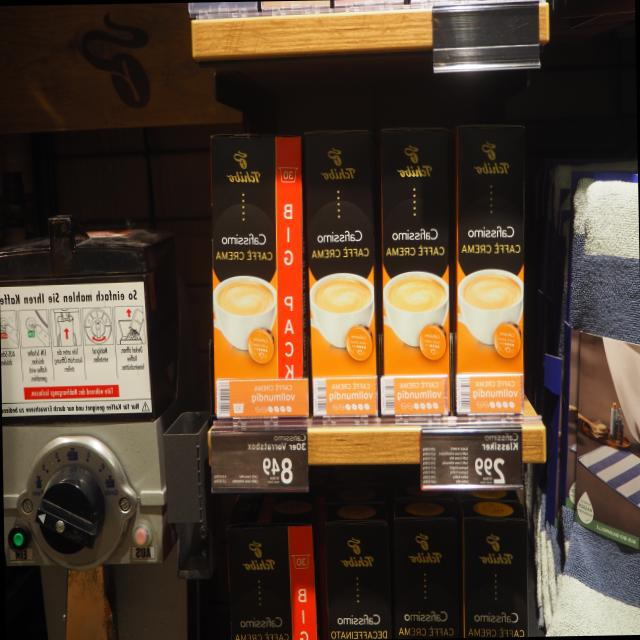Simo CCVollmundig: (206, 129, 308, 423)
Simo CCVollmundig bigpack: (373, 124, 458, 420), (451, 119, 530, 426), (304, 120, 382, 426)
